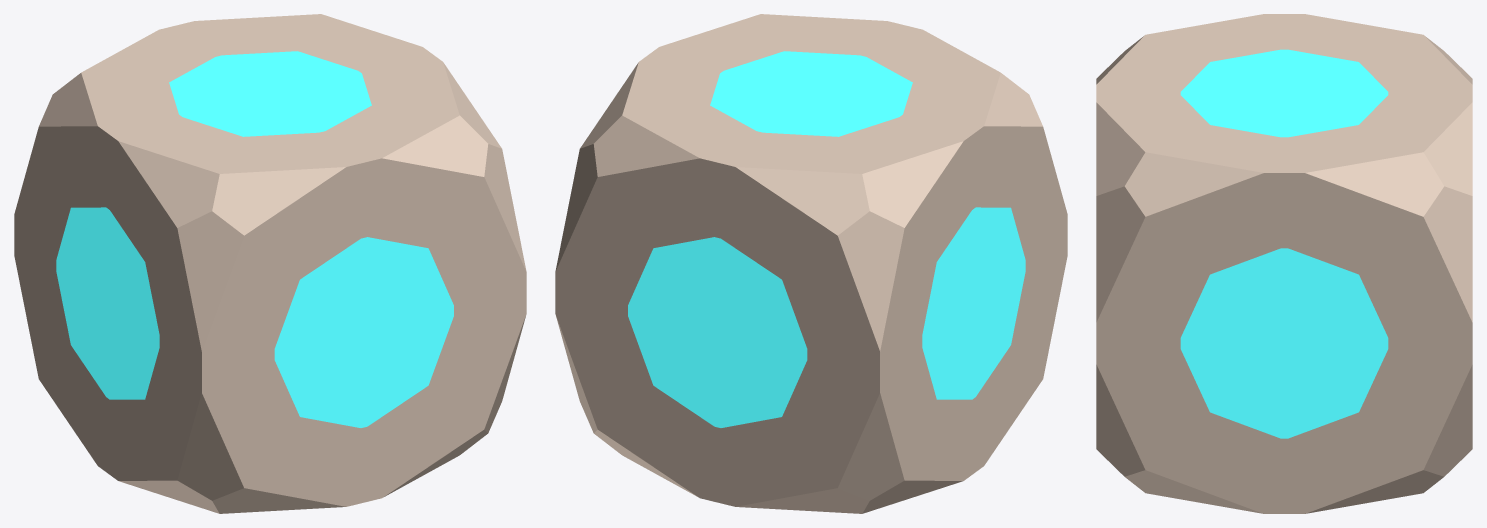
File: play_btn_silver.gltf
The picture shows the model from 3 angles, left to right: view 1: azimuth 30°, elevation 25°; view 2: azimuth 150°, elevation 25°; view 3: azimuth 270°, elevation 25°; orthographic projection.
Visible parts, largest first — view 1: Plane.045; view 2: Plane.045; view 3: Plane.045.
Part boxes in pixels (left/top/right/bottom): Plane.045: left=14, top=14, right=526, bottom=513; Plane.045: left=555, top=14, right=1067, bottom=513; Plane.045: left=1096, top=14, right=1472, bottom=513.
Bounding box in the file's own units: 1.5 × 1.5 × 1.5.
